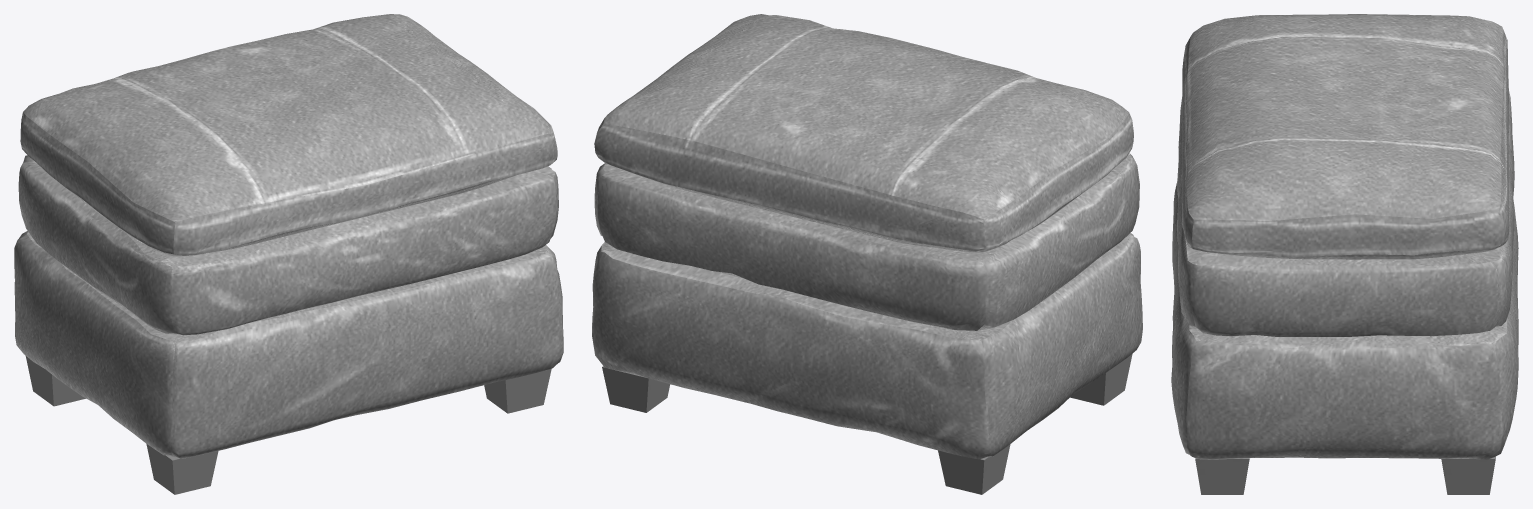
File: ottoman.glb
3 renders of one model, left to right at view 1: azimuth 30°, elevation 25°; view 2: azimuth 150°, elevation 25°; view 3: azimuth 270°, elevation 25°, orthographic.
Parts seen in each view (by area): view 1: Ottoman_01; view 2: Ottoman_01; view 3: Ottoman_01.
Boxes of the visible parts, x1,y1,x2,y2 form: Ottoman_01: [14, 14, 563, 494]; Ottoman_01: [592, 14, 1142, 494]; Ottoman_01: [1171, 14, 1518, 494].
Size of the model in its own units: 0.8846 by 0.6243 by 0.6212.
1 material, 1 textured.
